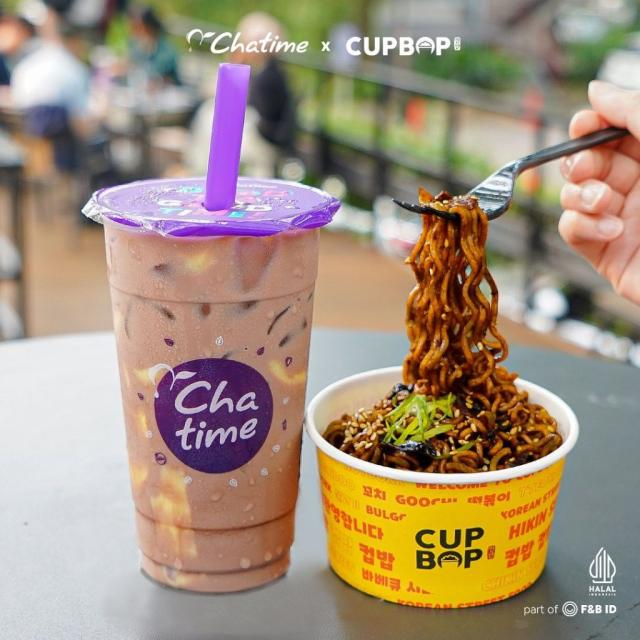chatime: (150, 360, 275, 475)
